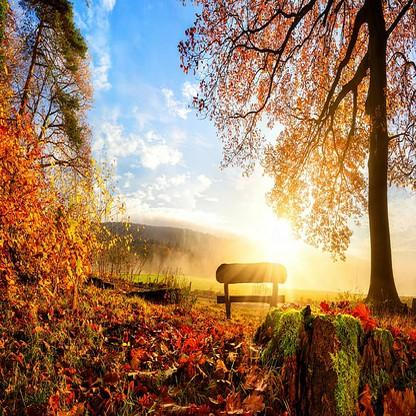obstacle: (189, 254, 301, 321)
